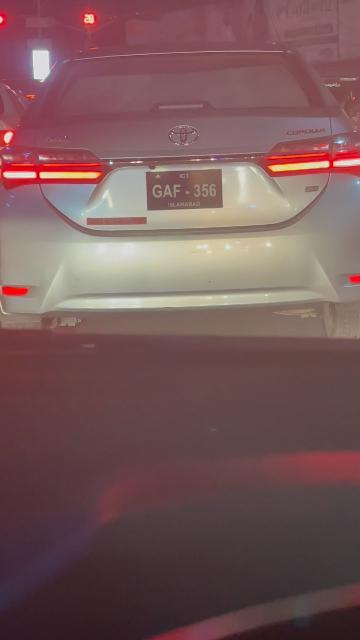plate: (147, 170, 223, 209)
